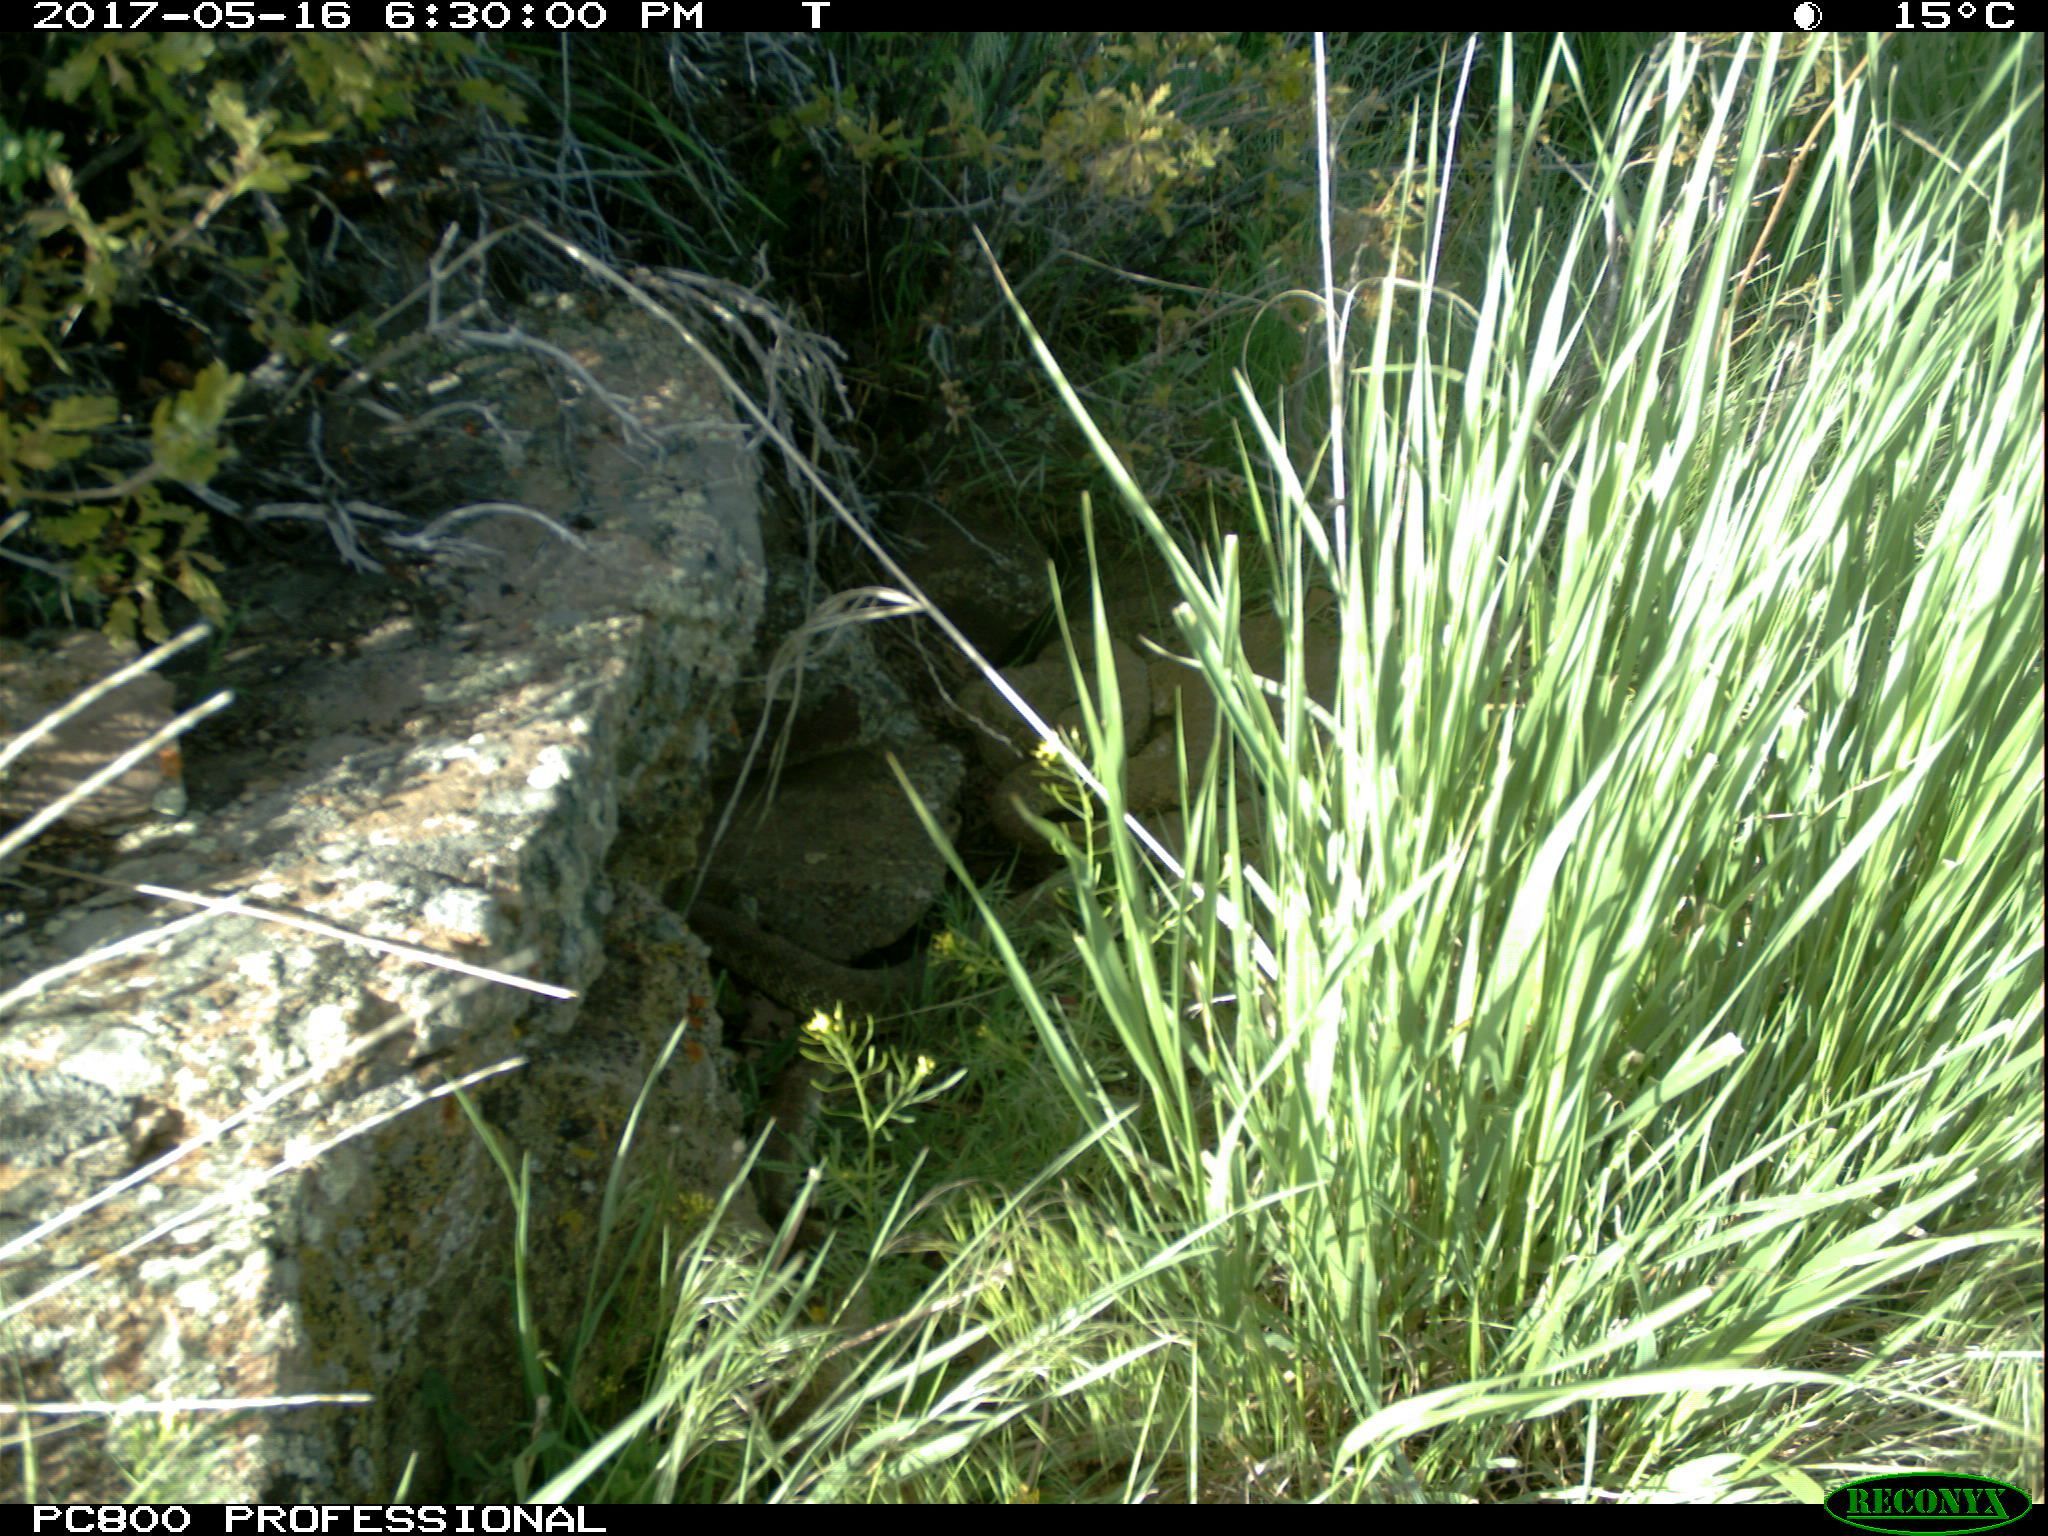snake: (963, 636, 1147, 845), (693, 908, 929, 1028), (747, 1042, 822, 1213)
